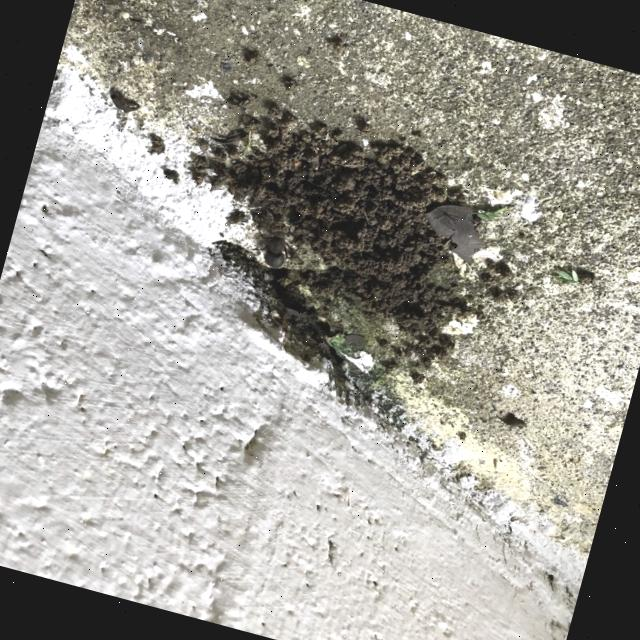Alive-Female-Dealate: (248, 214, 308, 274)
